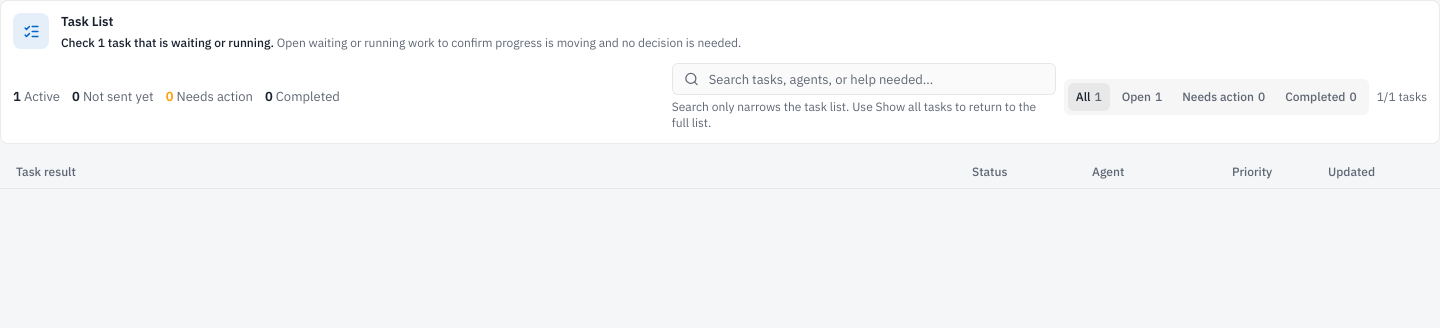
Test: ListView › does not match hidden task descriptions in task list search
Check: the text "internal-only rollout migration note" is not shown
Type "internal-only rollout migration note" into the search field named "search task list" at (864, 79), box [672,63,1056,95]
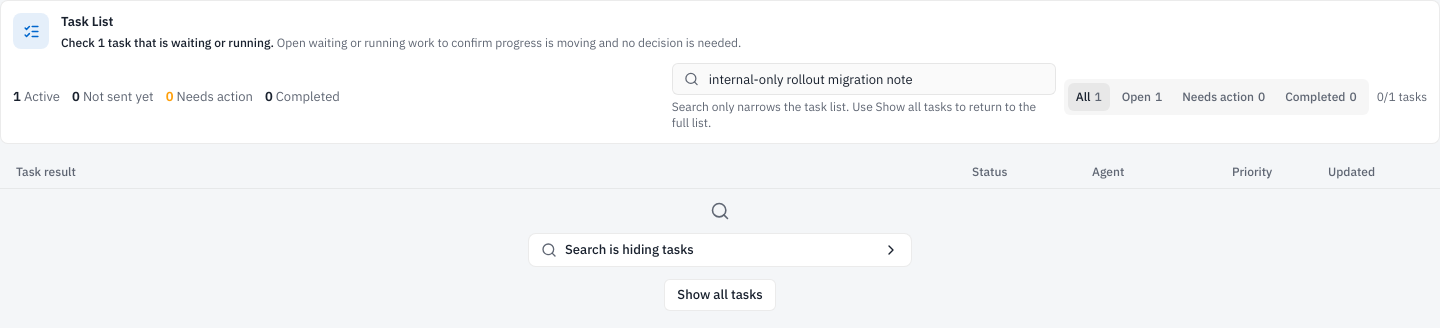
Check: the message with test id "list-filter-empty" shows "Search is hiding tasks", box [529,234,911,266]
Check: the button "Prepare customer summary" is gone
